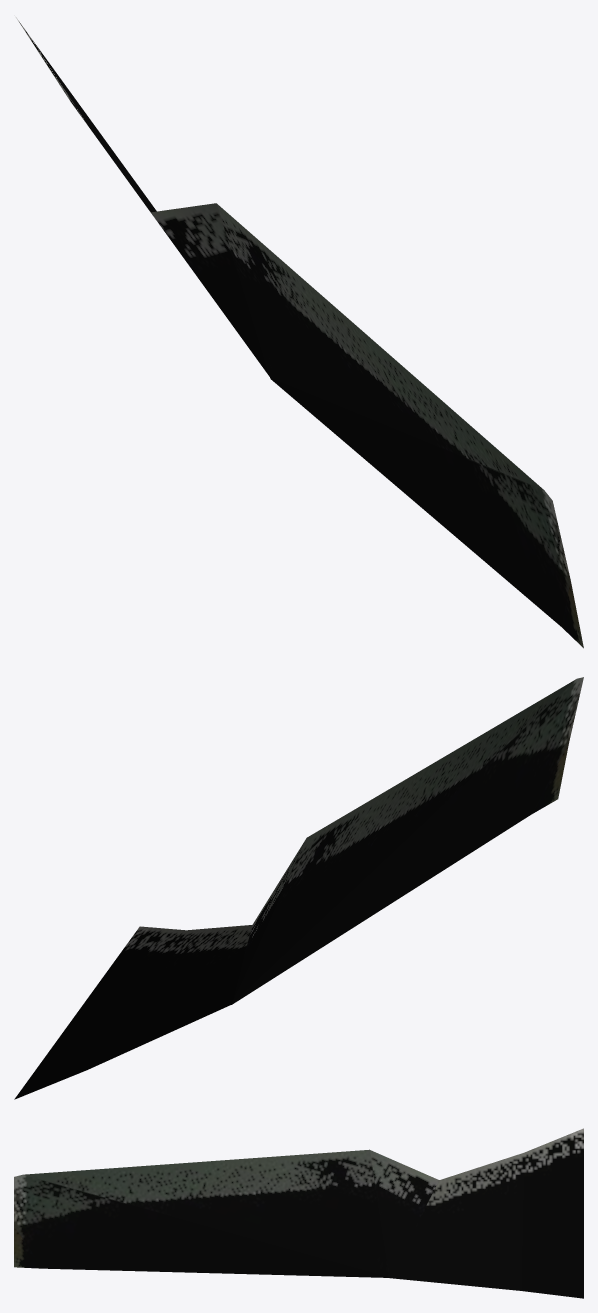
The picture shows the model from 3 angles, top to bottom: view 1: azimuth 30°, elevation 25°; view 2: azimuth 150°, elevation 25°; view 3: azimuth 270°, elevation 25°; orthographic projection. The views are drawn at different scales.
Bounding box in the file's own units: 0.2739 × 0.4246 × 1.67.
1 material, 1 textured.
